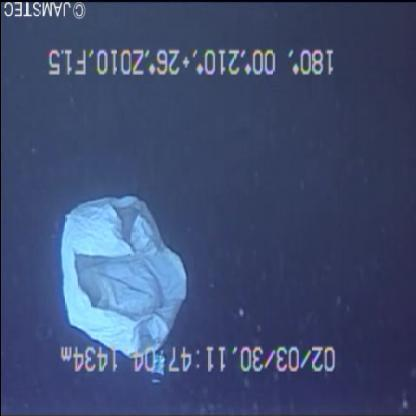Rác: (52, 199, 198, 385)
